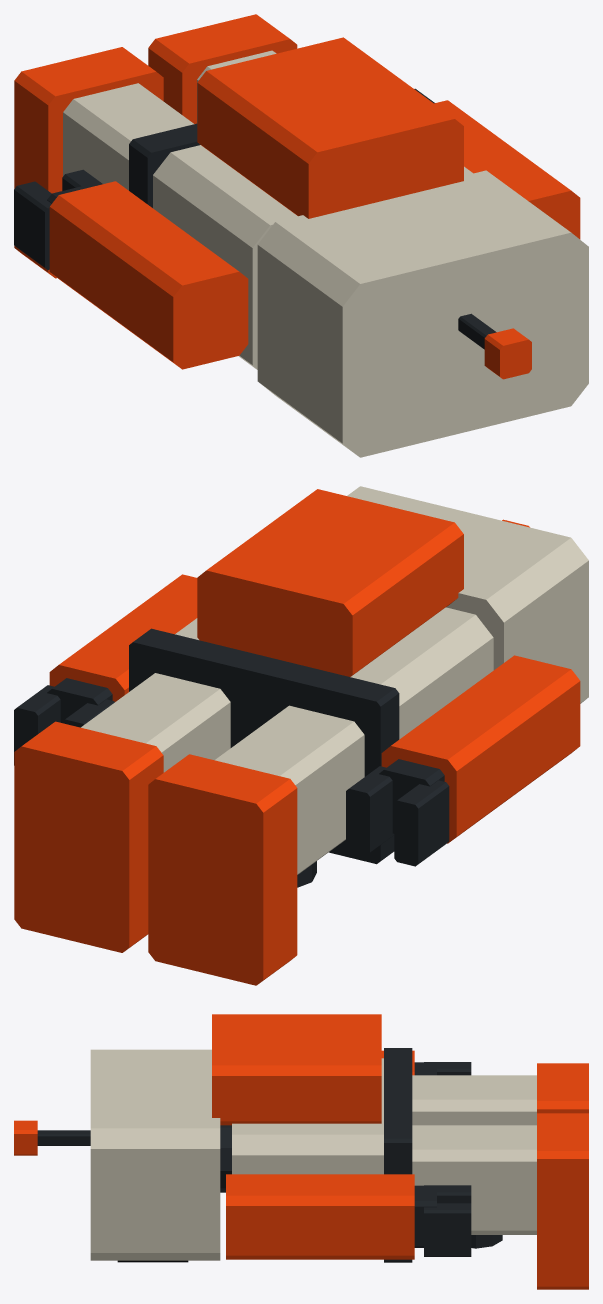
File: robot-minion.obj
3 renders of one model, top to bottom at view 1: azimuth 30°, elevation 25°; view 2: azimuth 150°, elevation 25°; view 3: azimuth 270°, elevation 25°, orthographic. The views are drawn at different scales.
Visible parts, largest first — view 1: robot-minion; view 2: robot-minion; view 3: robot-minion.
Part boxes in pixels (bbox=[...]): robot-minion: bbox=[14, 14, 588, 457]; robot-minion: bbox=[14, 486, 588, 985]; robot-minion: bbox=[14, 1014, 588, 1289].
Size of the model in its own units: 1.52 by 0.965 by 2.44.
